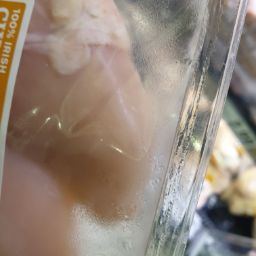Chicken breast: (40, 5, 176, 256)
